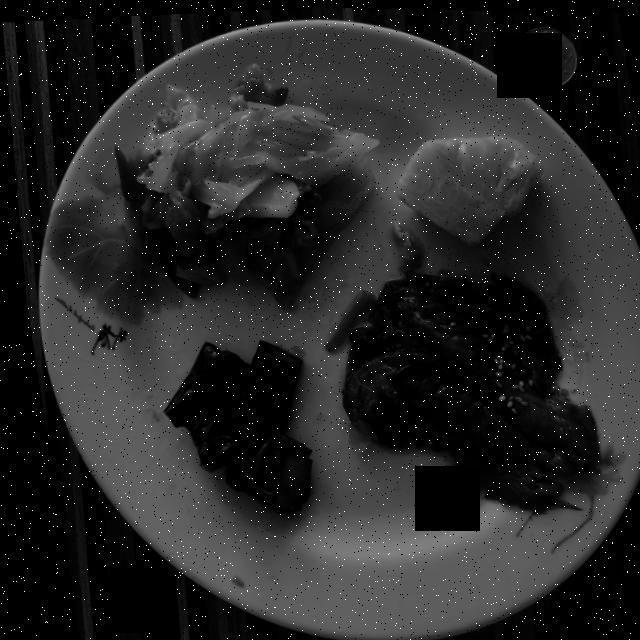Kabayaki sea bream fillet: (334, 270, 589, 510)
cabbage: (111, 62, 375, 306)
coin: (512, 24, 575, 86)
pineapple: (390, 133, 540, 244)
